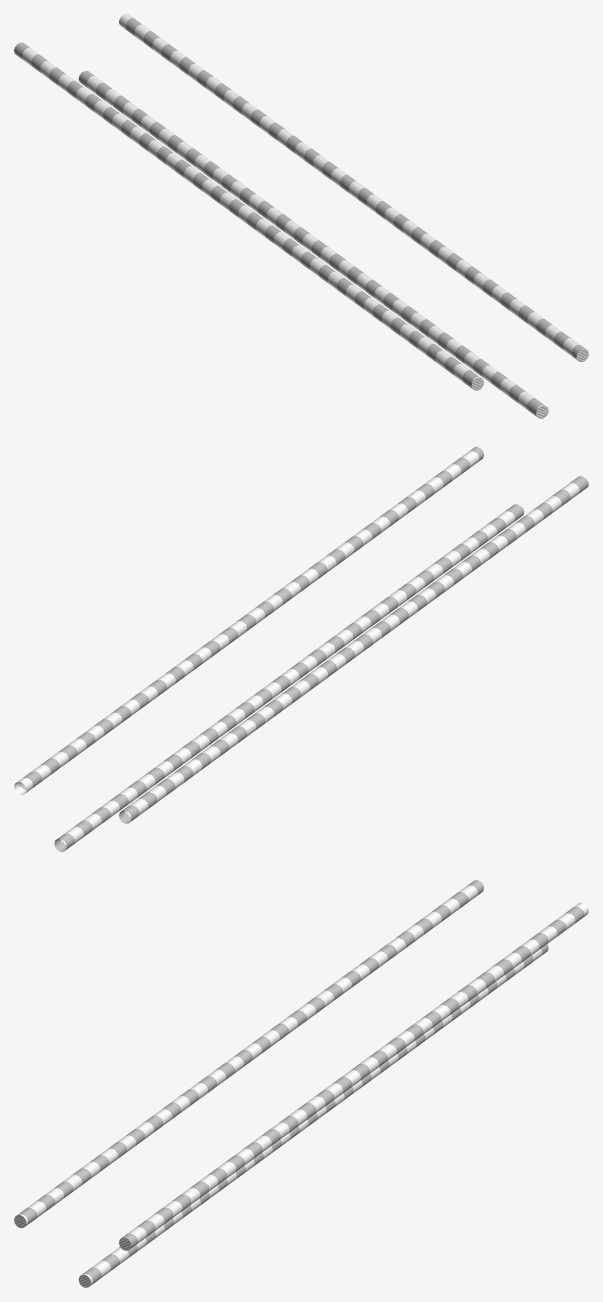
The model's file is Rail_Left_Long_Mid_Gap.fbx.
3 views of the same model, one above another, from view 1: azimuth 30°, elevation 25°; view 2: azimuth 150°, elevation 25°; view 3: azimuth 330°, elevation 25° (orthographic).
Visible parts, largest first — view 1: Rail_Left_Long_Mid_Gap; view 2: Rail_Left_Long_Mid_Gap; view 3: Rail_Left_Long_Mid_Gap.
Boxes of the visible parts, box(x1,y1,x2,y2) form: Rail_Left_Long_Mid_Gap: box(14, 14, 588, 418); Rail_Left_Long_Mid_Gap: box(14, 447, 588, 851); Rail_Left_Long_Mid_Gap: box(14, 880, 588, 1287).
Size of the model in its own units: 74.11 by 500 by 36.23.
Materials: 1 (1 with a texture image).
